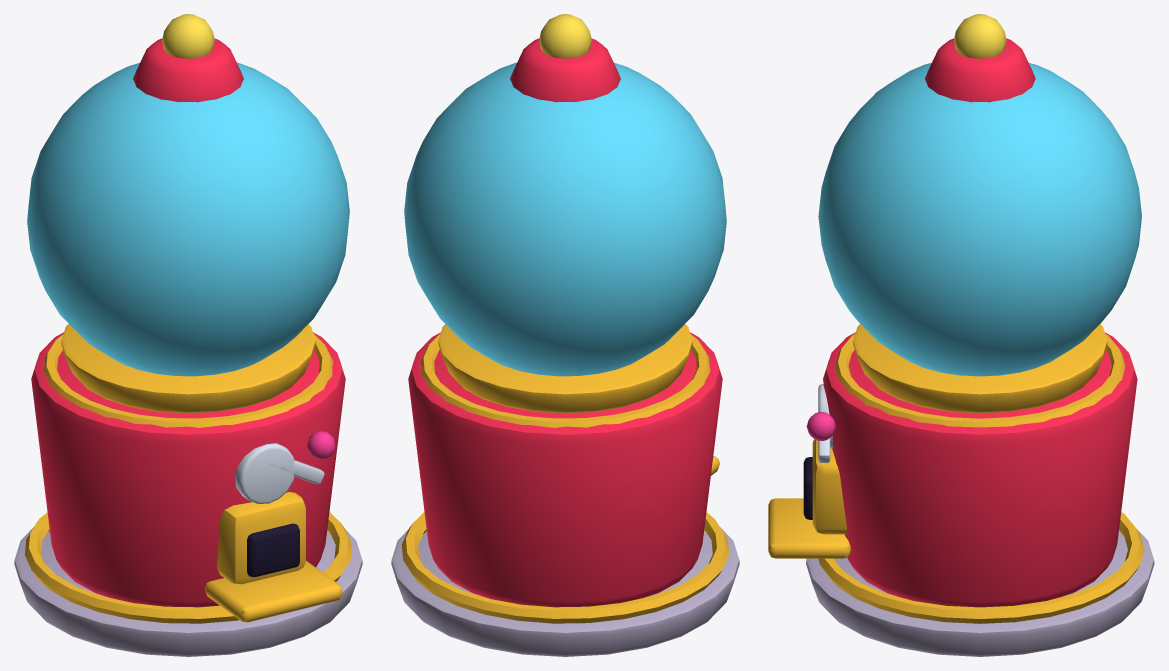
File: base_generator.obj
3 views of the same model, side by side, from view 1: azimuth 30°, elevation 25°; view 2: azimuth 150°, elevation 25°; view 3: azimuth 270°, elevation 25° (orthographic).
Parts seen in each view (by area): view 1: base_generator, base_generator_Glass; view 2: base_generator, base_generator_Glass; view 3: base_generator, base_generator_Glass.
Boxes of the visible parts, x1,y1,x2,y2 form: base_generator: (14,14,362,656); base_generator_Glass: (27,62,349,376); base_generator: (391,14,739,656); base_generator_Glass: (404,62,726,376); base_generator: (768,14,1154,656); base_generator_Glass: (818,63,1141,376).
Size of the model in its own units: 5.92 by 10.75 by 6.56.
Materials: 2 (1 with a texture image).
